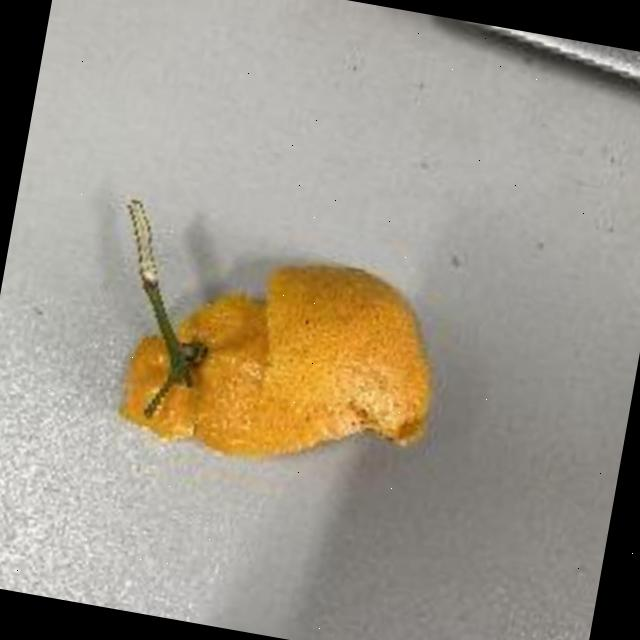orange-peel: (110, 226, 454, 490)
